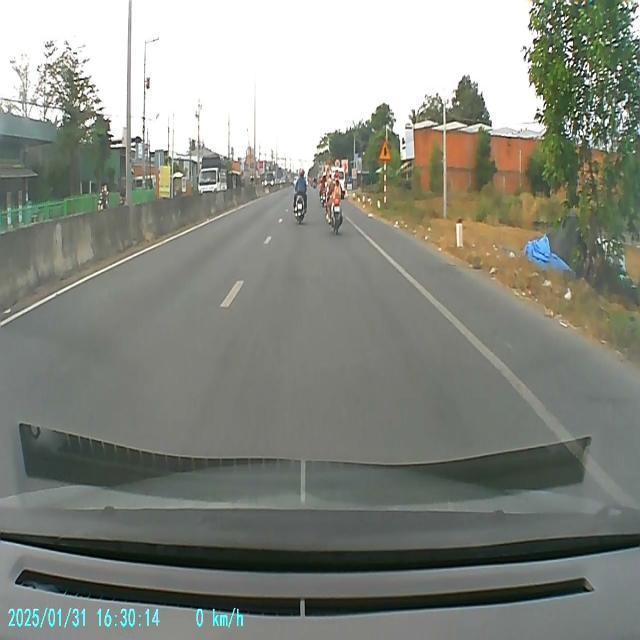207-giao-nhau-voi-duong-khong-uu-tien: (380, 140, 392, 162)
